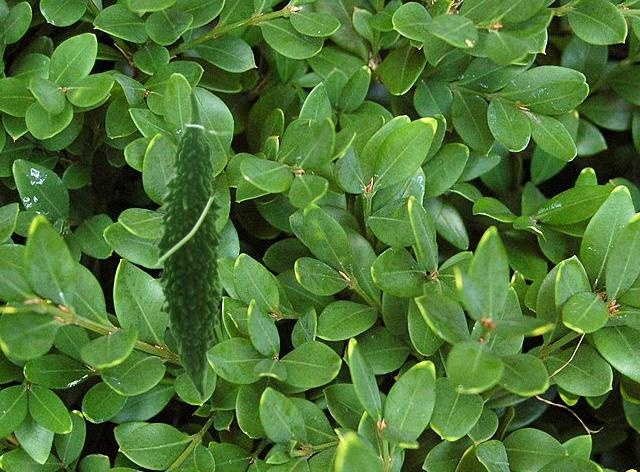ampalaya: (150, 88, 234, 404)
